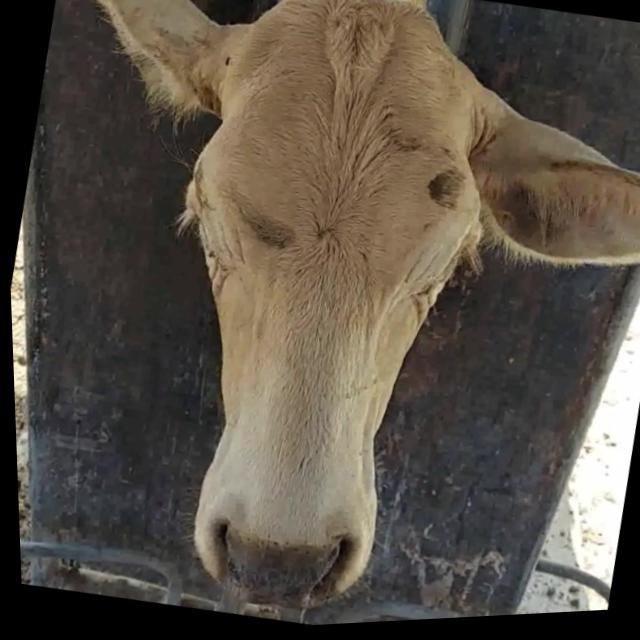cowFace: (105, 0, 532, 630)
